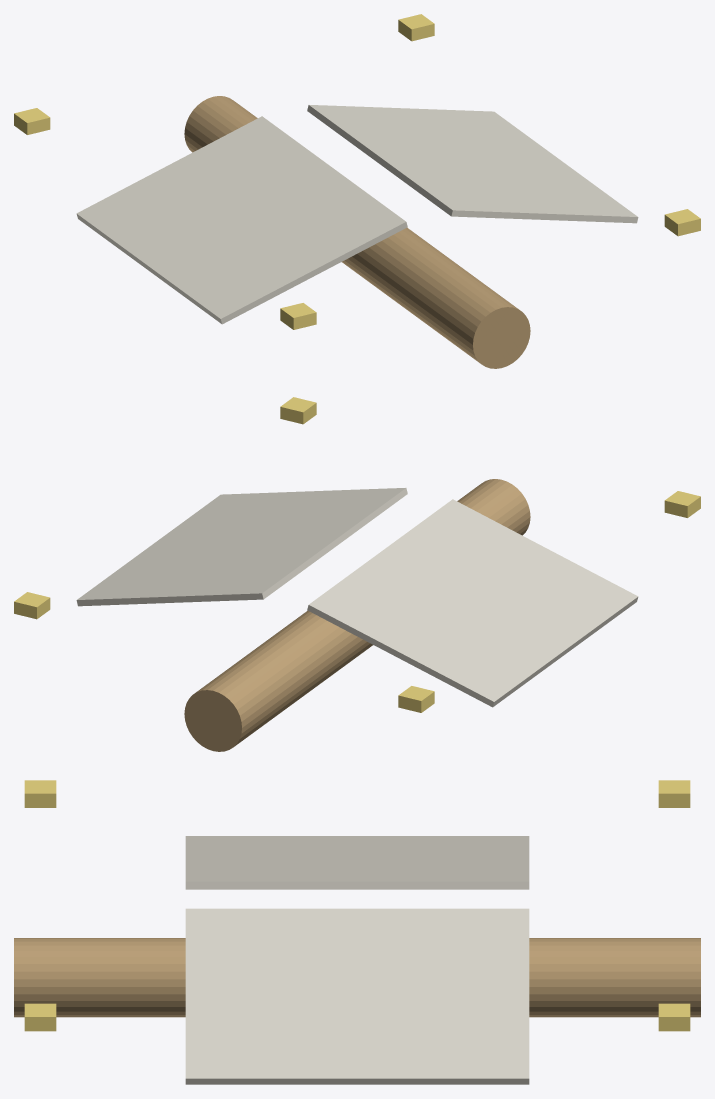
Rendered from magic_book.glb.
3 renders of one model, top to bottom at view 1: azimuth 30°, elevation 25°; view 2: azimuth 150°, elevation 25°; view 3: azimuth 270°, elevation 25°, orthographic. The views are drawn at different scales.
Visible parts, largest first — view 1: LeftPage, RightPage, Spine, Accent_-0.1_-0.12, Accent_0.1_0.12, Accent_-0.1_0.12, Accent_0.1_-0.12; view 2: LeftPage, RightPage, Spine, Accent_-0.1_0.12, Accent_0.1_-0.12, Accent_-0.1_-0.12, Accent_0.1_0.12; view 3: RightPage, Spine, LeftPage, Accent_0.1_0.12, Accent_0.1_-0.12, Accent_-0.1_0.12, Accent_-0.1_-0.12.
Boxes of the visible parts, <box> form: LeftPage: <box>76,116,407,324</box>; RightPage: <box>307,105,638,223</box>; Spine: <box>184,96,530,368</box>; Accent_-0.1_-0.12: <box>280,303,316,329</box>; Accent_0.1_0.12: <box>398,14,434,41</box>; Accent_-0.1_0.12: <box>14,108,50,134</box>; Accent_0.1_-0.12: <box>664,209,700,236</box>; LeftPage: <box>307,499,638,707</box>; RightPage: <box>76,488,407,606</box>; Spine: <box>184,479,530,751</box>; Accent_-0.1_0.12: <box>398,686,434,712</box>; Accent_0.1_-0.12: <box>280,397,316,424</box>; Accent_-0.1_-0.12: <box>664,491,700,517</box>; Accent_0.1_0.12: <box>14,592,50,619</box>; RightPage: <box>185,908,529,1084</box>; Spine: <box>14,938,700,1017</box>; LeftPage: <box>185,836,529,889</box>; Accent_0.1_0.12: <box>658,1003,690,1031</box>; Accent_0.1_-0.12: <box>24,1003,56,1031</box>; Accent_-0.1_0.12: <box>658,780,690,807</box>; Accent_-0.1_-0.12: <box>24,780,56,807</box>.
Bounding box in the file's own units: 0.2174 × 0.0494 × 0.26.
